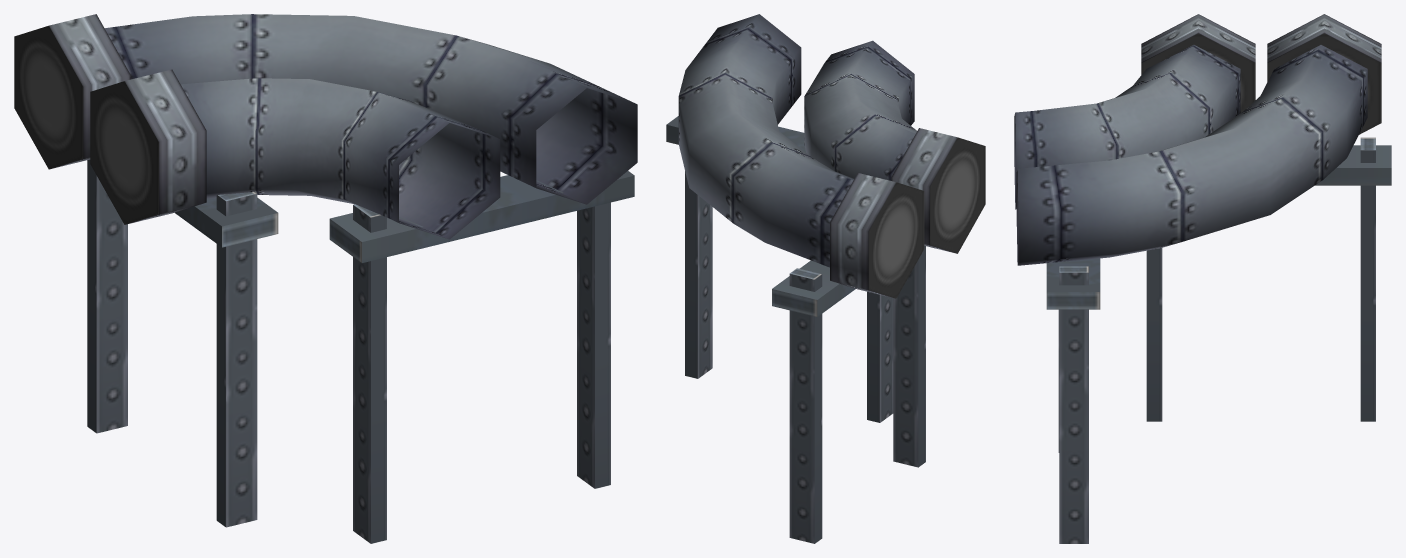
Rendered from Pipe1E.fbx.
The picture shows the model from 3 angles, left to right: view 1: azimuth 30°, elevation 25°; view 2: azimuth 150°, elevation 25°; view 3: azimuth 270°, elevation 25°; orthographic projection. The views are drawn at different scales.
Parts seen in each view (by area): view 1: polySurface1620; view 2: polySurface1620; view 3: polySurface1620.
Part boxes in pixels (<box>): polySurface1620: <box>14,14,637,543</box>; polySurface1620: <box>666,14,985,543</box>; polySurface1620: <box>1014,14,1391,543</box>.
Size of the model in its own units: 4.73 by 4.75 by 4.43.
